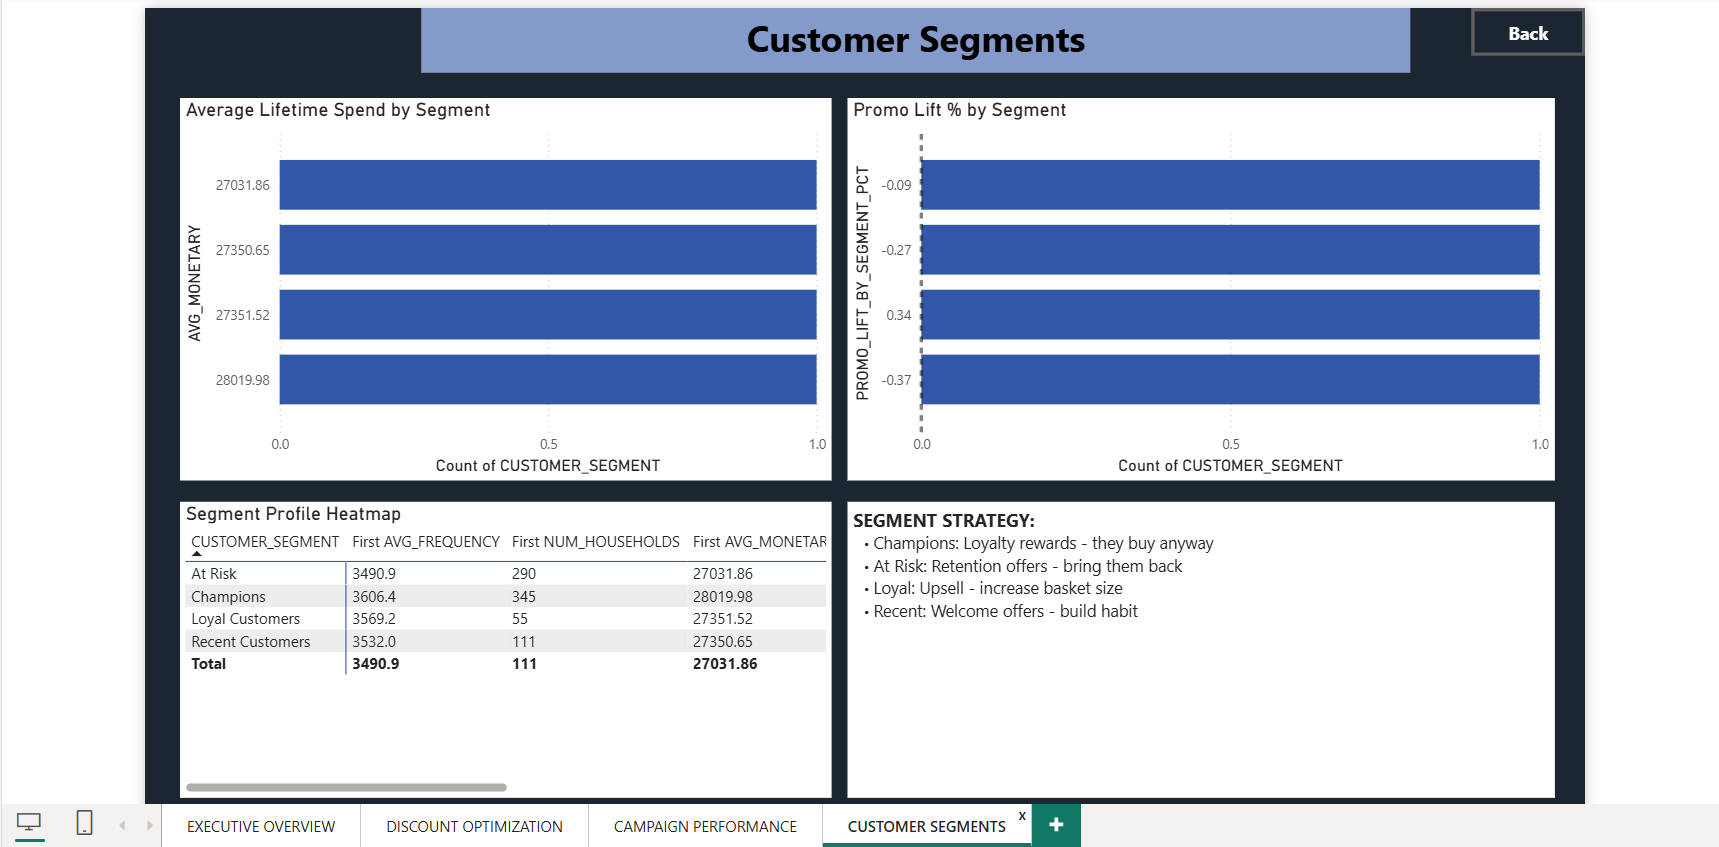

What the dashboard file says about the page in this screenshot:
{"tool":"powerbi","page":{"name":"CUSTOMER SEGMENTS","canvas":[1280,720],"ordinal":3},"visuals":[{"type":"clusteredBarChart","title":"Average Lifetime Spend by Segment","fields":{"Y":["CountNonNull(mart_segment_PromorResponse.CUSTOMER_SEGMENT)"],"Category":["mart_segment_PromorResponse.AVG_MONETARY"]},"box":[31.6,79.6,579.1,340.3],"z":0},{"type":"clusteredBarChart","title":"Promo Lift % by Segment","fields":{"Category":["mart_segment_PromorResponse.PROMO_LIFT_BY_SEGMENT_PCT"],"Y":["CountNonNull(mart_segment_PromorResponse.CUSTOMER_SEGMENT)"]},"box":[624.4,79.6,628.5,340.3],"z":1000},{"type":"pivotTable","title":"Segment Profile Heatmap","fields":{"Rows":["mart_segment_PromorResponse.CUSTOMER_SEGMENT"],"Values":["Min(mart_segment_PromorResponse.AVG_FREQUENCY)","Min(mart_segment_PromorResponse.NUM_HOUSEHOLDS)","Min(mart_segment_PromorResponse.AVG_MONETARY)","Min(mart_segment_PromorResponse.PROMO_LIFT_BY_SEGMENT_PCT)","Min(mart_segment_PromorResponse.AVG_DISCOUNT_TAKEN)"]},"box":[31.6,439.1,579.1,263.5],"z":2000},{"type":"textbox","box":[624.4,439.1,628.5,263.5],"z":3000},{"type":"actionButton","box":[1178.5,0,101.5,42.5],"z":4000},{"type":"textbox","box":[245.6,0,879.6,57.6],"z":4001}]}

Visuals, with their boxes on the page's 1280x720 design canvas (x1, y1, x2, y2). These are canvas units, not pixel positions in the 1719x847 screenshot, which may show the page scaled, cropped or inside an application window:
"Average Lifetime Spend by Segment" clusteredBarChart: [x1=32, y1=80, x2=611, y2=420]
"Promo Lift % by Segment" clusteredBarChart: [x1=624, y1=80, x2=1253, y2=420]
"Segment Profile Heatmap" pivotTable: [x1=32, y1=439, x2=611, y2=703]
textbox: [x1=624, y1=439, x2=1253, y2=703]
actionButton: [x1=1178, y1=0, x2=1280, y2=42]
textbox: [x1=246, y1=0, x2=1125, y2=58]
